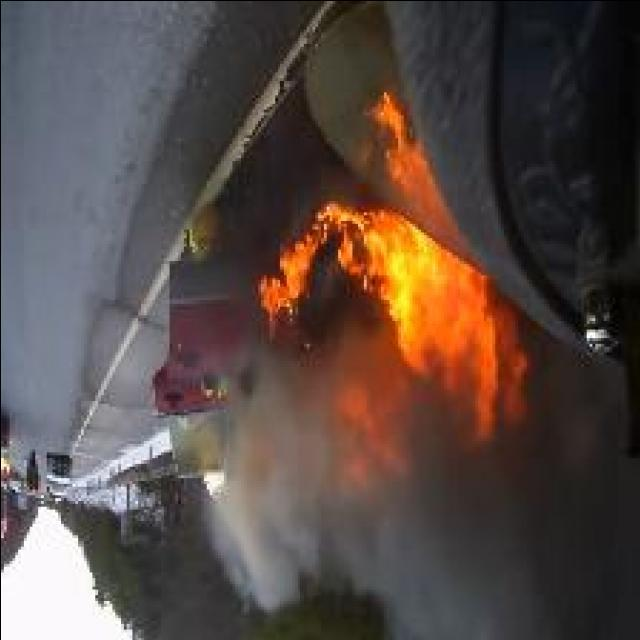Fire: (253, 87, 530, 487)
